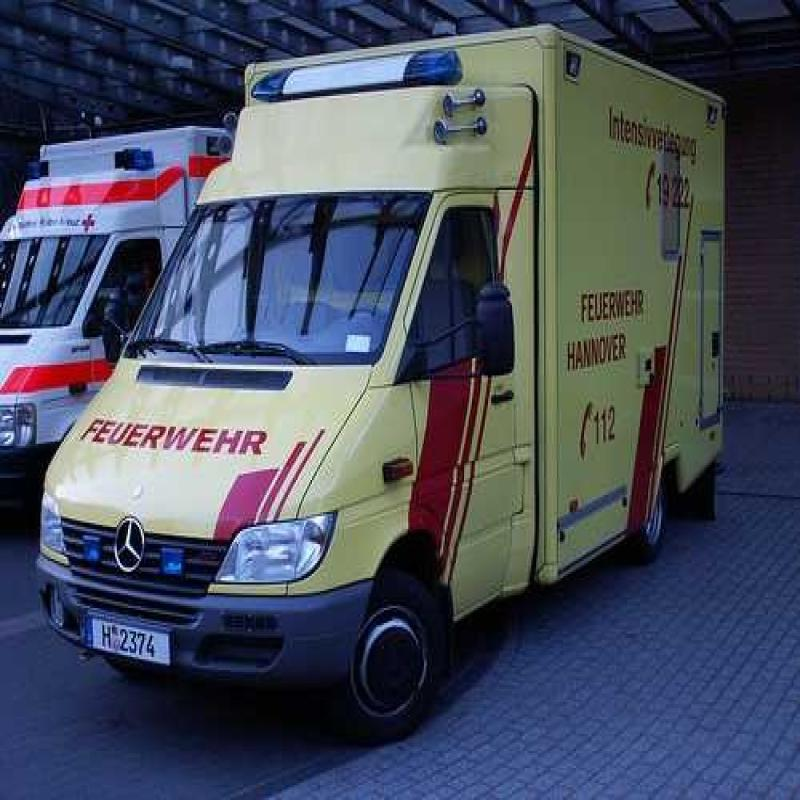AmbulanceSiren: (248, 45, 481, 101)
